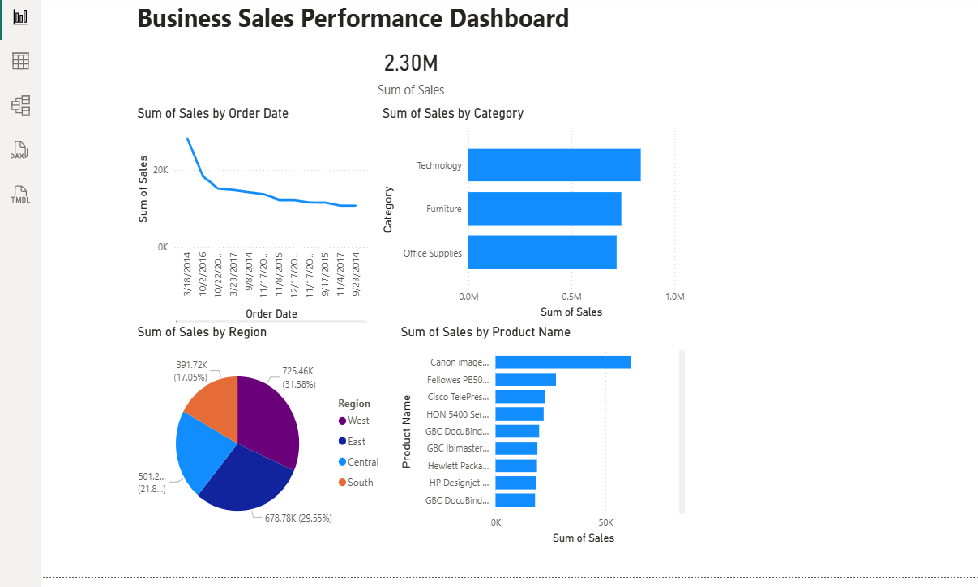

The page's visual inventory and layout, read from the dashboard file:
{"tool":"powerbi","page":{"name":"Page 1","canvas":[1280,720],"ordinal":0},"visuals":[{"type":"card","fields":{"Values":["Sum(Sample - Superstore.Sales)"]},"box":[124.9,49.4,752,86.4],"z":0},{"type":"lineChart","fields":{"Category":["Sample - Superstore.Order Date"],"Y":["Sum(Sample - Superstore.Sales)"]},"box":[124.9,135.8,322.5,279.9],"z":1000},{"type":"clusteredBarChart","fields":{"Category":["Sample - Superstore.Category"],"Y":["Sum(Sample - Superstore.Sales)"]},"box":[456.9,135.8,419.9,270.3],"z":2000},{"type":"pieChart","fields":{"Category":["Sample - Superstore.Region"],"Y":["Sum(Sample - Superstore.Sales)"]},"box":[124.9,406.2,347.2,279.9],"z":3000},{"type":"clusteredBarChart","fields":{"Category":["Sample - Superstore.Product Name"],"Y":["Sum(Sample - Superstore.Sales)"]},"box":[481.6,406.2,395.2,279.9],"z":4000},{"type":"textbox","box":[124.9,0,752,72.7],"z":5000}]}

Visuals, with their boxes on the page's 1280x720 design canvas (x1, y1, x2, y2). These are canvas units, not pixel positions in the 978x587 screenshot, which may show the page scaled, cropped or inside an application window:
card - Sum(Sample - Superstore.Sales): crop(125, 49, 877, 136)
lineChart - Sample - Superstore.Order Date x Sum(Sample - Superstore.Sales): crop(125, 136, 447, 416)
clusteredBarChart - Sample - Superstore.Category x Sum(Sample - Superstore.Sales): crop(457, 136, 877, 406)
pieChart - Sample - Superstore.Region x Sum(Sample - Superstore.Sales): crop(125, 406, 472, 686)
clusteredBarChart - Sample - Superstore.Product Name x Sum(Sample - Superstore.Sales): crop(482, 406, 877, 686)
textbox: crop(125, 0, 877, 73)
